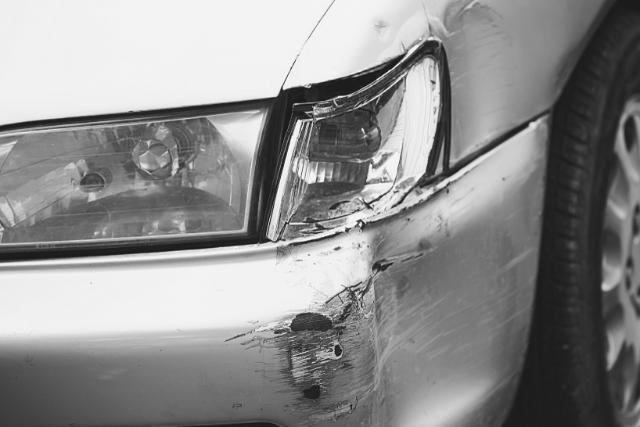Bumper: (224, 170, 560, 427)
Fender: (333, 0, 563, 122)
Light: (222, 82, 427, 237)
